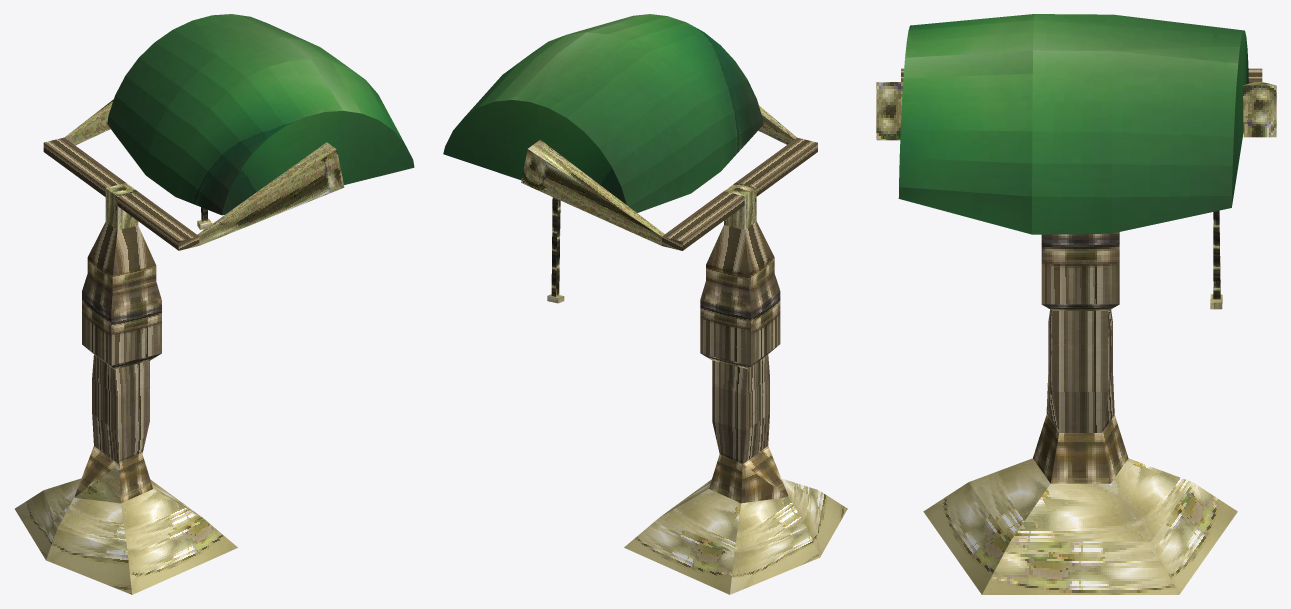
The model's file is ps1_brass_bankers_desk_lamp.glb.
3 renders of one model, left to right at view 1: azimuth 30°, elevation 25°; view 2: azimuth 150°, elevation 25°; view 3: azimuth 270°, elevation 25°, orthographic. The views are drawn at different scales.
Parts seen in each view (by area): view 1: lamp; view 2: lamp; view 3: lamp.
Part boxes in pixels (bbox=[...]): lamp: bbox=[15, 14, 414, 594]; lamp: bbox=[443, 14, 847, 594]; lamp: bbox=[876, 14, 1276, 594].
Size of the model in its own units: 0.6812 by 0.896 by 0.5344.
Materials: 1 (1 with a texture image).
